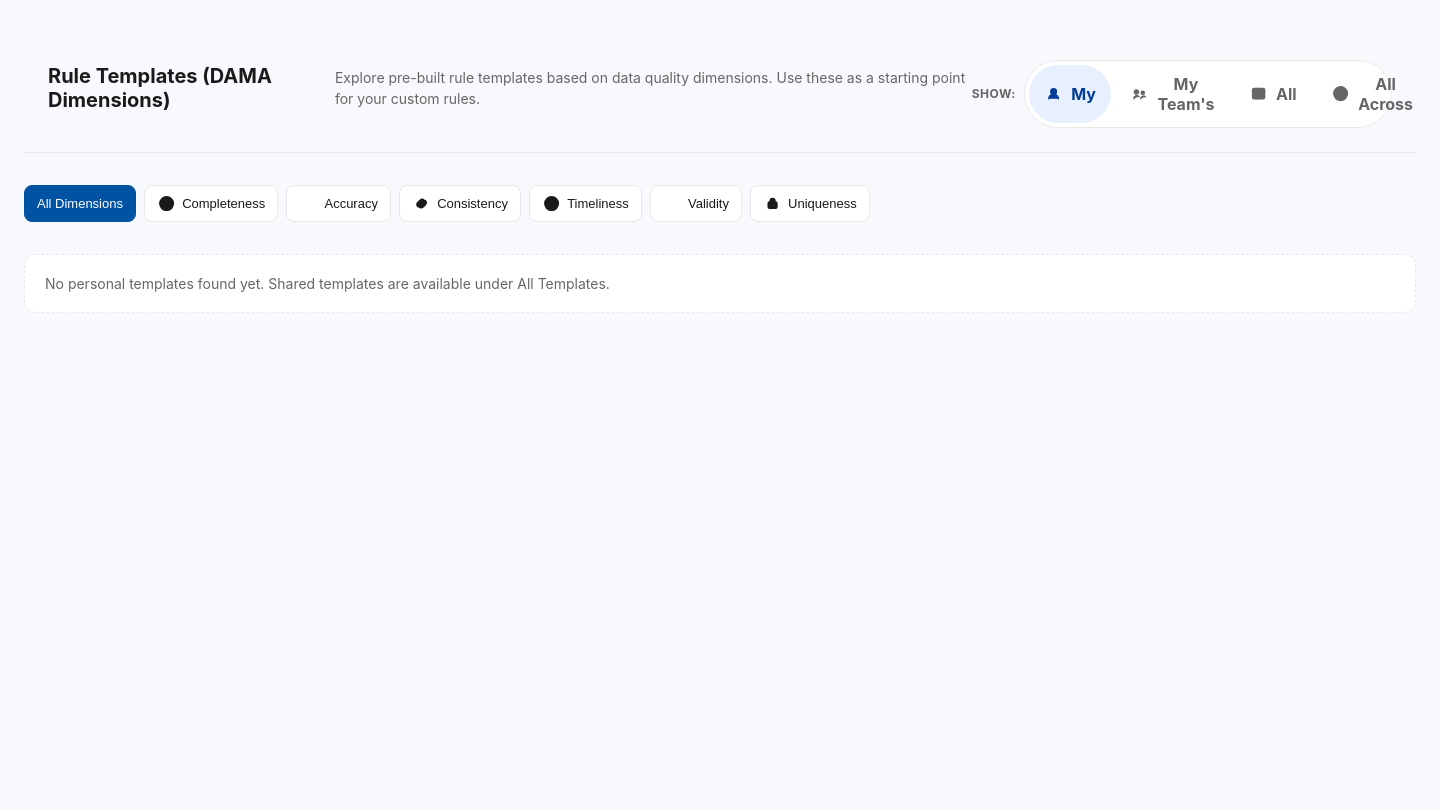
Scenario: TemplatesTab › lets the user switch from my scope to all templates inline
Expected: the text "No personal templates found yet" is shown, [45,275,610,292]
Click the tab "All".
click(1273, 94)  # box [1234,65,1312,123]
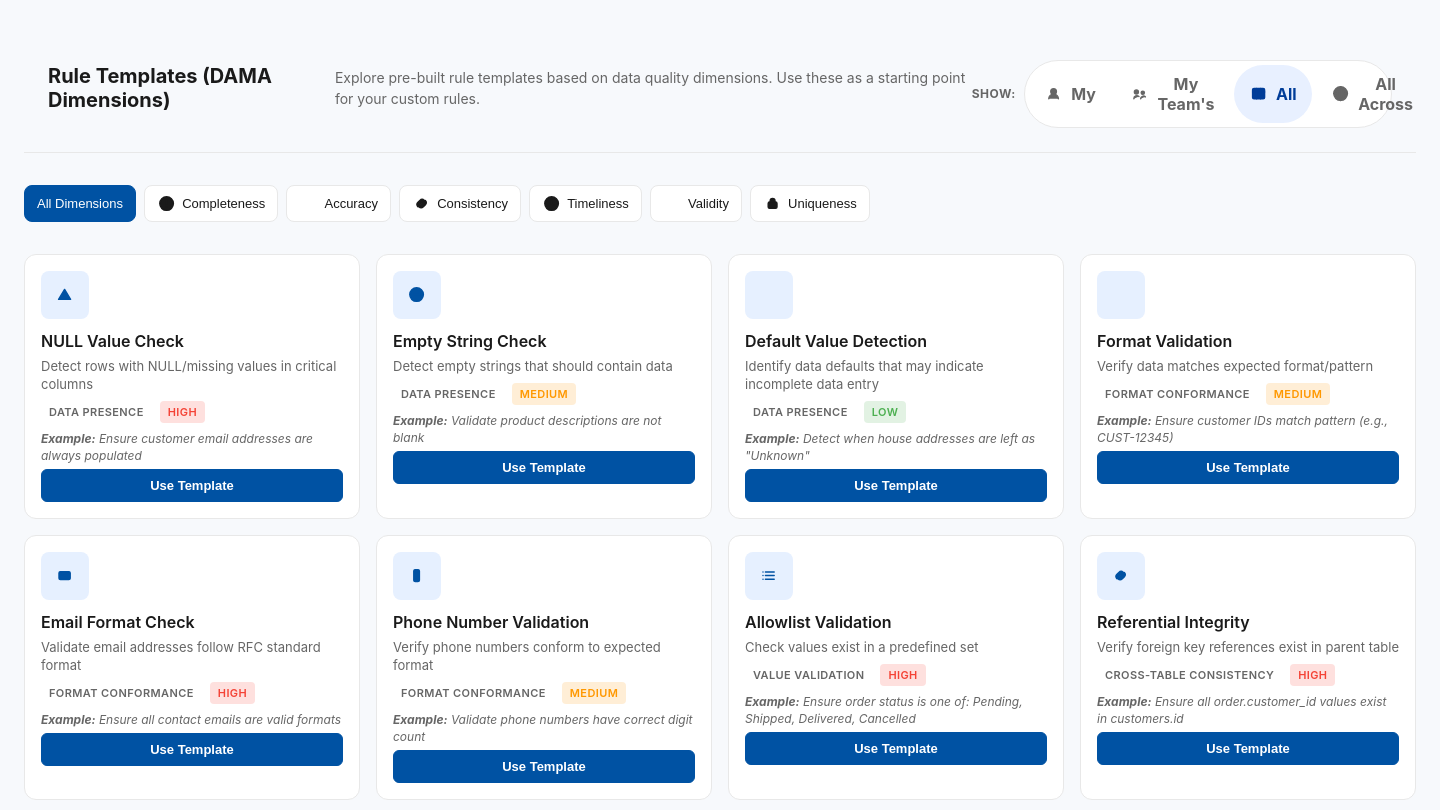
Now the heading "NULL Value Check" is shown, box [41,331,184,351]
Now the button "Use Template" below "NULL Value Check" is shown, box [41,469,343,502]
